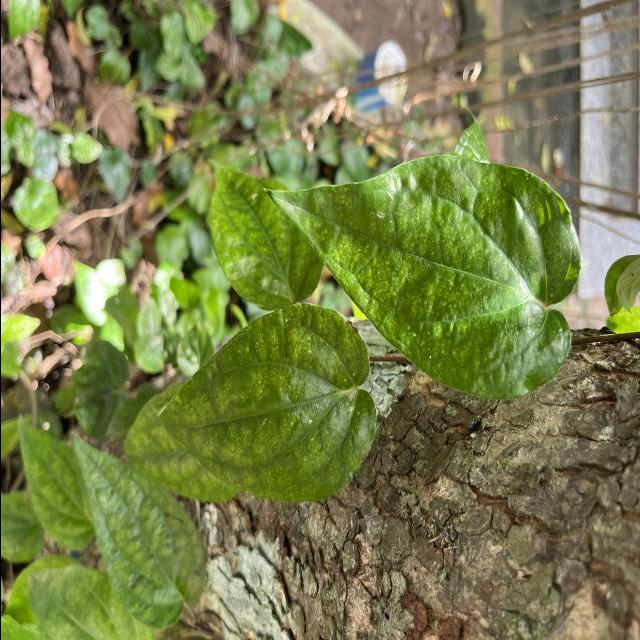Piper betle: (260, 152, 582, 402), (154, 300, 378, 505)
